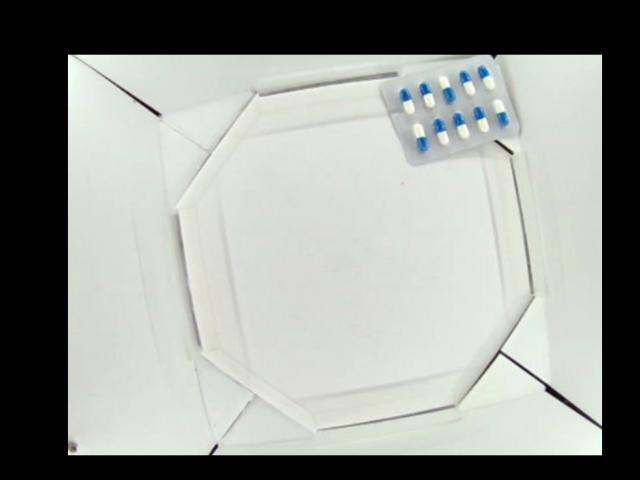Medicine: (378, 55, 521, 163)
